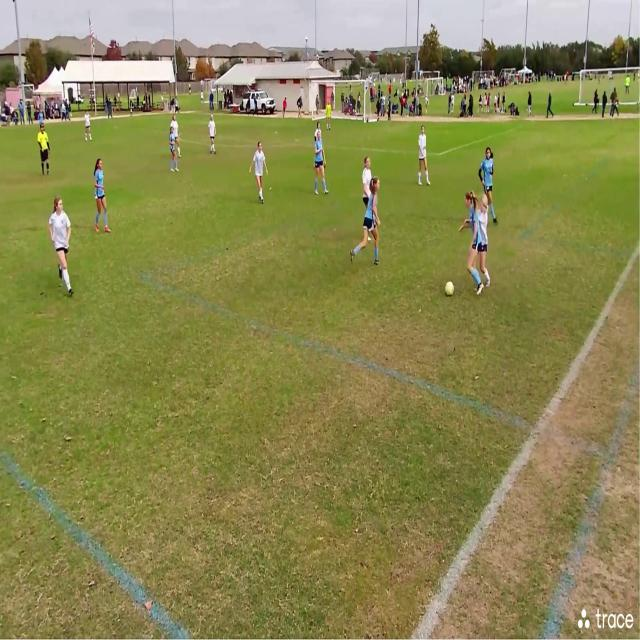ball: (445, 278, 454, 296)
team1: (356, 168, 384, 271), (461, 192, 481, 298), (480, 147, 500, 225), (92, 157, 110, 234), (313, 125, 329, 197), (169, 127, 181, 174)
team2: (48, 199, 75, 299), (478, 190, 498, 290), (253, 140, 270, 206), (416, 126, 431, 188), (208, 116, 217, 157), (362, 156, 371, 196), (84, 112, 92, 143)
